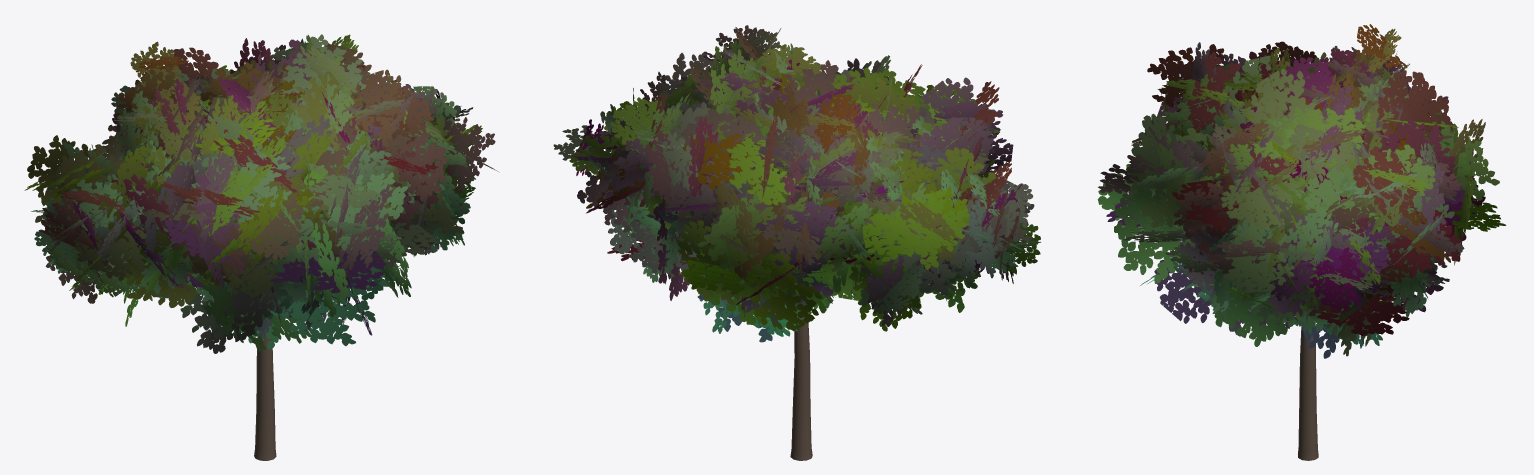
Rendered from tree_small_broadleaf_v4_full_a.glb.
3 renders of one model, left to right at view 1: azimuth 30°, elevation 25°; view 2: azimuth 150°, elevation 25°; view 3: azimuth 270°, elevation 25°, orthographic.
Visible parts, largest first — view 1: SmallBroadleafV4Full_balanced_Foliage_15HierarchicalGroups, SmallBroadleafV4Full_balanced_Trunk_Stylized; view 2: SmallBroadleafV4Full_balanced_Foliage_15HierarchicalGroups, SmallBroadleafV4Full_balanced_Trunk_Stylized; view 3: SmallBroadleafV4Full_balanced_Foliage_15HierarchicalGroups, SmallBroadleafV4Full_balanced_Trunk_Stylized.
Boxes of the visible parts, box(x1,y1,x2,y2) form: SmallBroadleafV4Full_balanced_Foliage_15HierarchicalGroups: box(24, 34, 499, 353); SmallBroadleafV4Full_balanced_Trunk_Stylized: box(254, 328, 276, 460); SmallBroadleafV4Full_balanced_Foliage_15HierarchicalGroups: box(553, 25, 1040, 342); SmallBroadleafV4Full_balanced_Trunk_Stylized: box(790, 316, 812, 460); SmallBroadleafV4Full_balanced_Foliage_15HierarchicalGroups: box(1097, 24, 1506, 358); SmallBroadleafV4Full_balanced_Trunk_Stylized: box(1298, 323, 1318, 460).
Bounding box in the file's own units: 6.96 × 5.96 × 5.75.
Materials: 2 (1 with a texture image).
